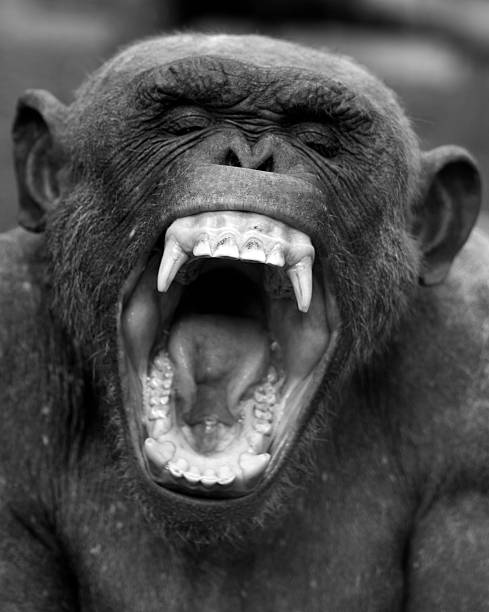chimpanzee: (2, 25, 489, 582)
